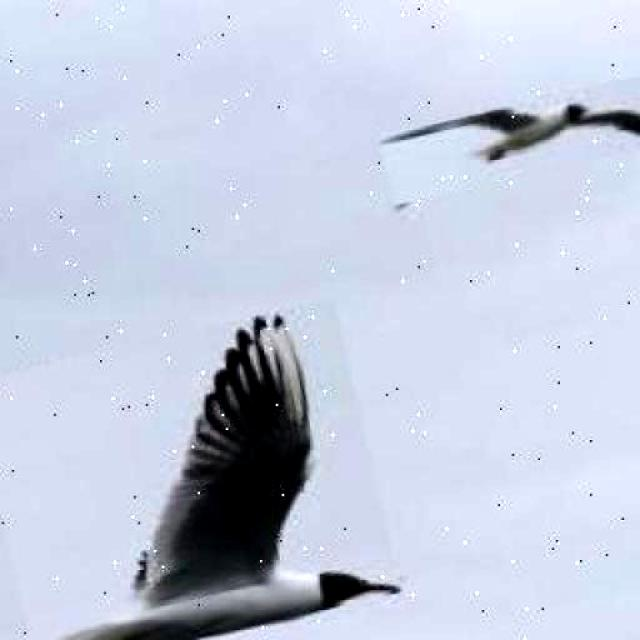airplane: (0, 298, 404, 640), (378, 69, 640, 205)
